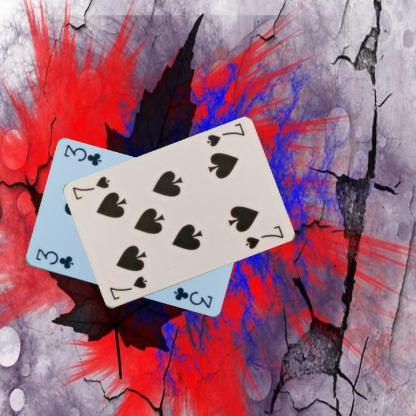3c: (33, 246, 74, 271)
7s: (204, 120, 246, 149), (107, 274, 148, 301)
